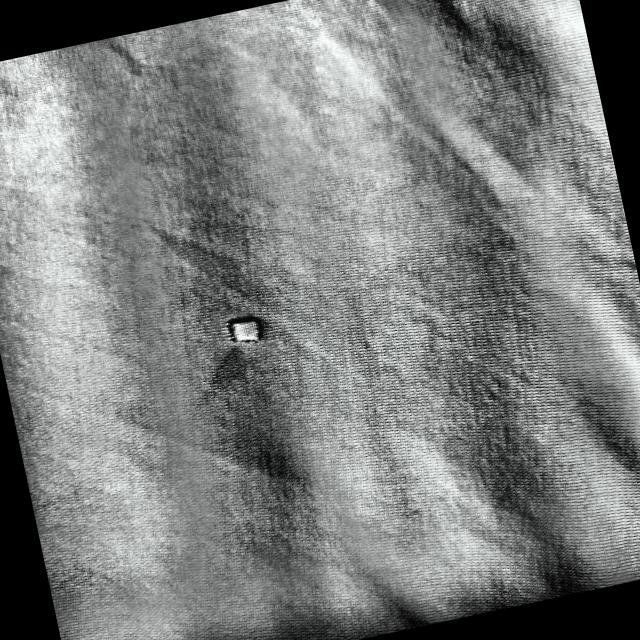cut: (214, 298, 276, 358)
